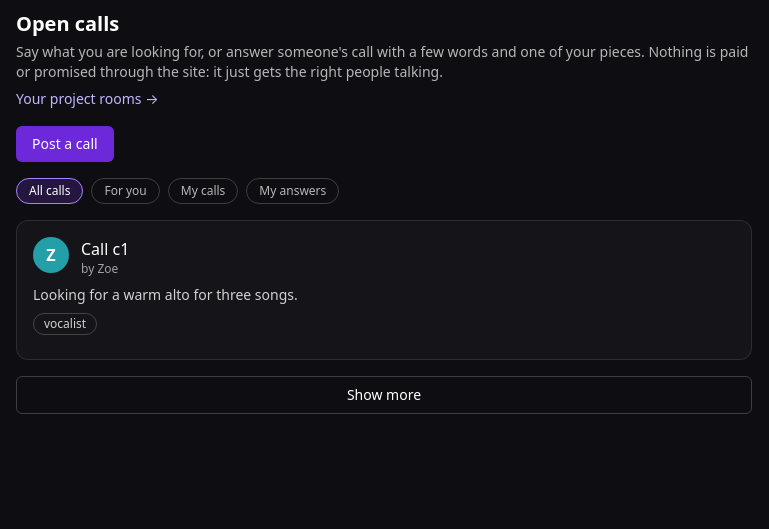
CallsPage › shows more when there are more
The image size is (769, 529).
Expected: the link "Call c1" is shown, [81,238,129,260]
Click the button "Show more": (384, 395) [16,376,752,414]
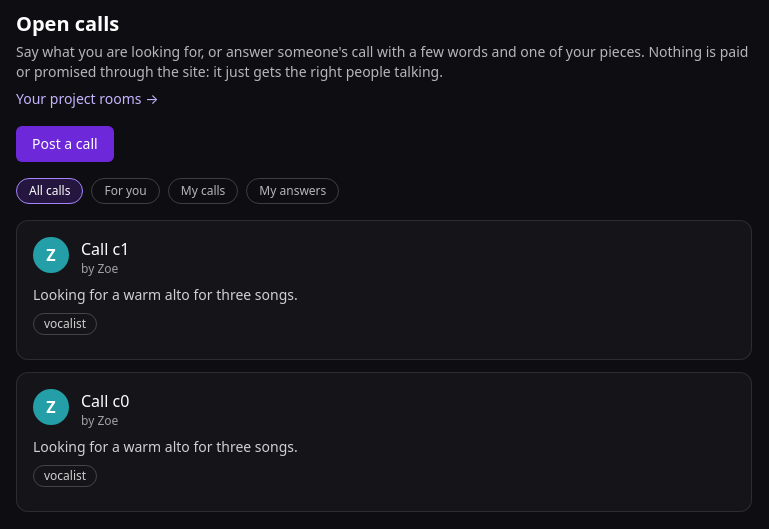
Result: the link "Call c0" is shown at [81,390,129,412]
Result: the button "Show more" is gone
